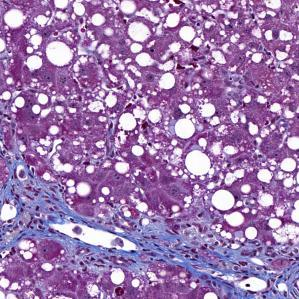fibrosis: (139, 217, 243, 272), (0, 168, 64, 223)
